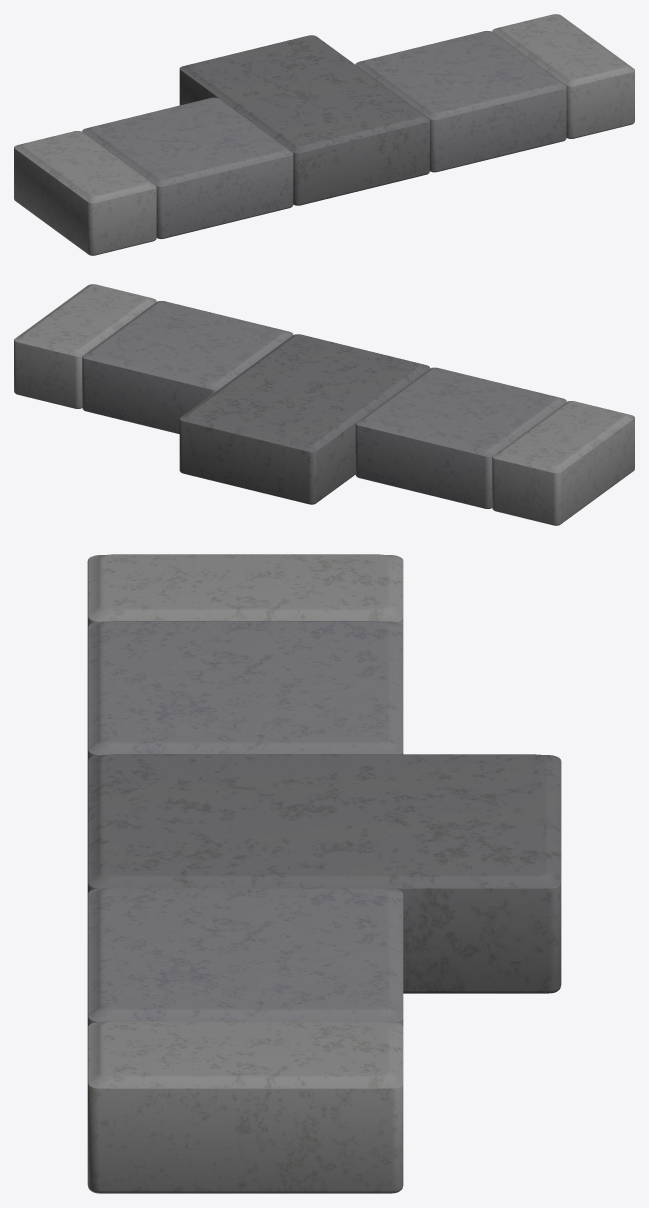
Rendered from Mixed Border.glb.
The picture shows the model from 3 angles, top to bottom: view 1: azimuth 30°, elevation 25°; view 2: azimuth 150°, elevation 25°; view 3: azimuth 270°, elevation 25°; orthographic projection. The views are drawn at different scales.
Parts seen in each view (by area): view 1: Heritage Regular.001, Heritage Square.002, Heritage Square.001, Heritage Half.002, Heritage Half.001; view 2: Heritage Regular.001, Heritage Square.002, Heritage Square.001, Heritage Half.002, Heritage Half.001; view 3: Heritage Regular.001, Heritage Half.001, Heritage Square.001, Heritage Square.002, Heritage Half.002.
Boxes of the visible parts, x1,y1,x2,y2 form: Heritage Regular.001: (179, 35, 429, 205); Heritage Square.002: (82, 97, 293, 238); Heritage Square.001: (355, 31, 566, 172); Heritage Half.002: (14, 131, 156, 255); Heritage Half.001: (492, 14, 634, 138); Heritage Regular.001: (179, 334, 429, 504); Heritage Square.002: (355, 367, 566, 508); Heritage Square.001: (82, 301, 293, 434); Heritage Half.002: (492, 401, 634, 525); Heritage Half.001: (14, 284, 156, 408); Heritage Regular.001: (87, 754, 561, 993); Heritage Half.001: (87, 1021, 403, 1193); Heritage Square.001: (87, 888, 403, 1026); Heritage Square.002: (87, 621, 403, 760); Heritage Half.002: (87, 554, 403, 626).
Bounding box in the file's own units: 0.6096 × 0.0603 × 0.2286.
Materials: 3 (3 with a texture image).
